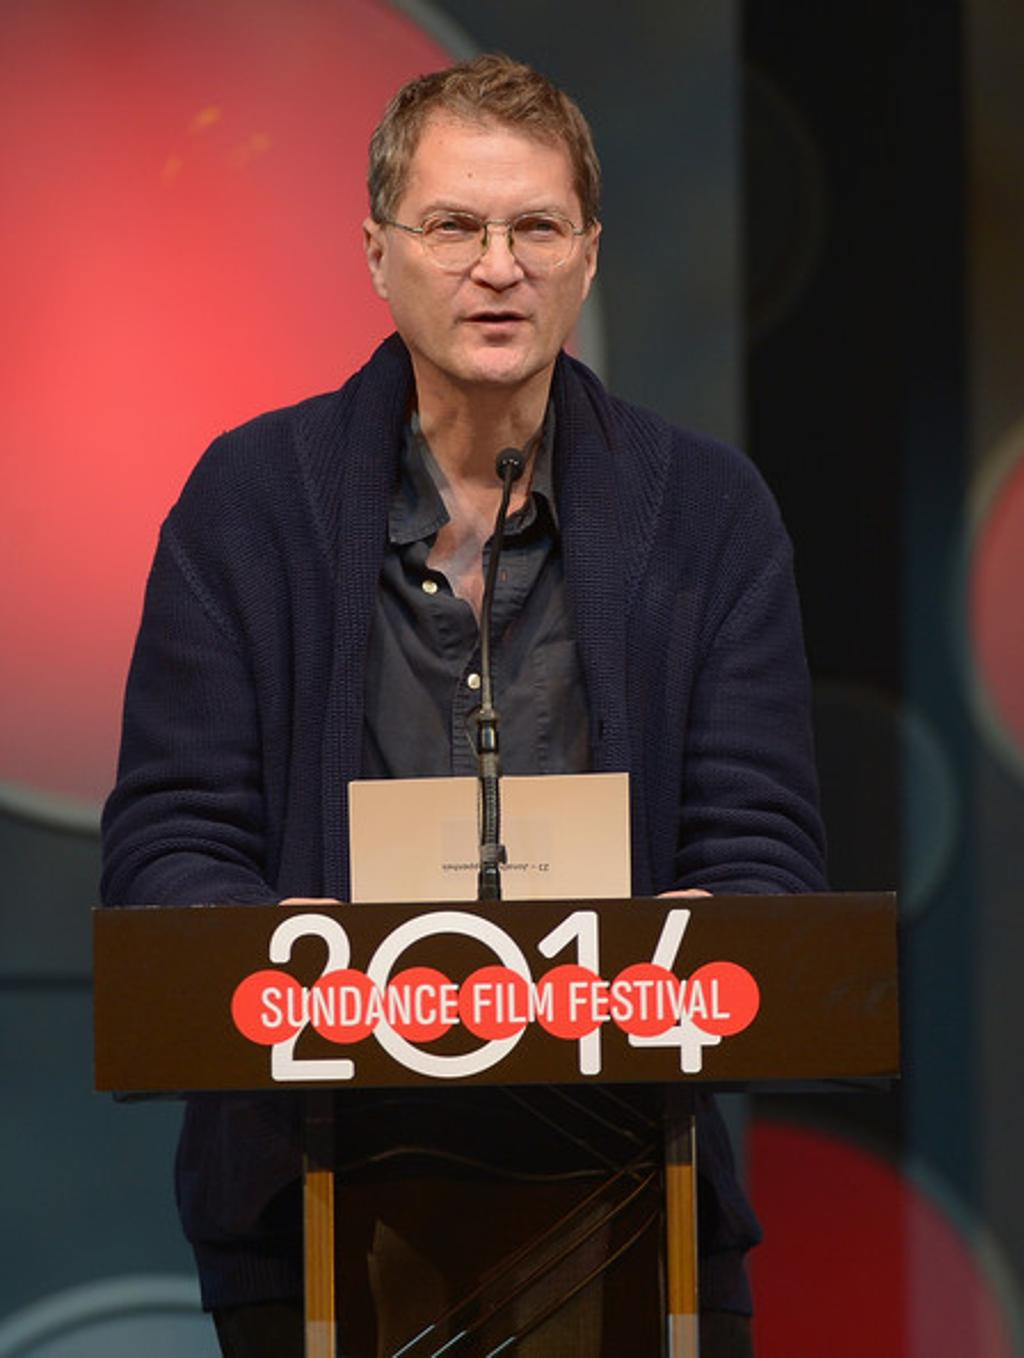face: (390, 106, 581, 387)
